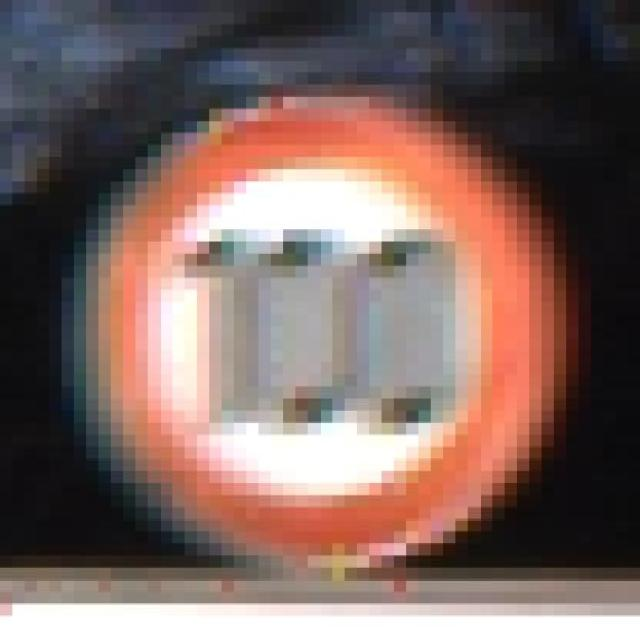forb_speed_over_100: (89, 100, 549, 565)
